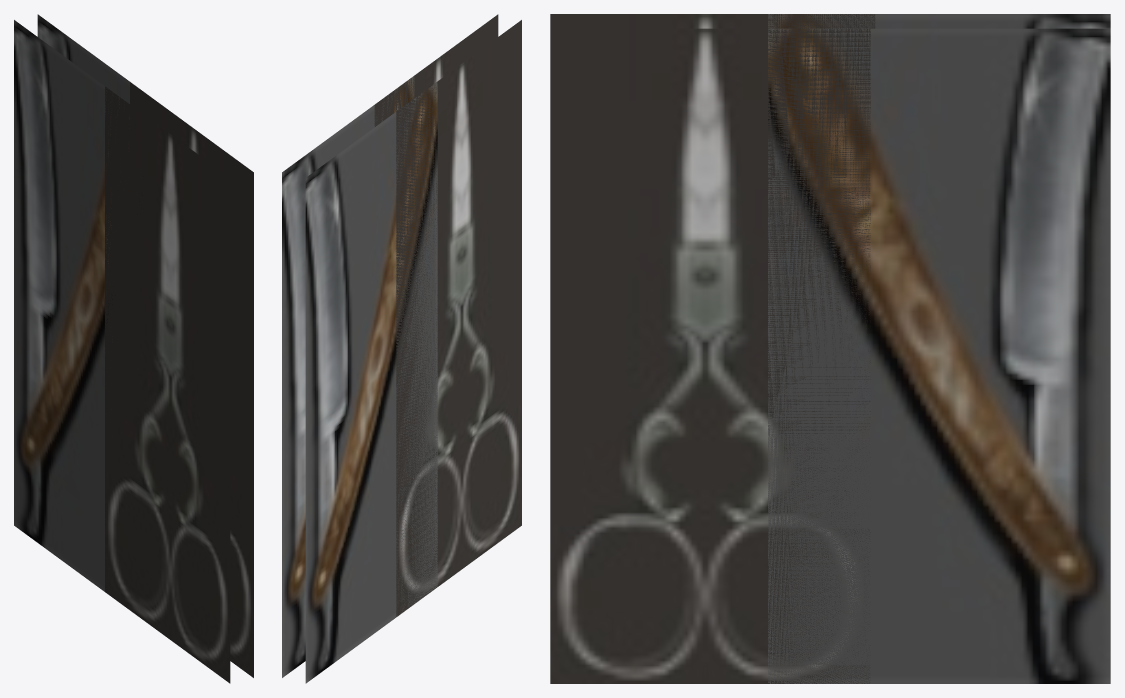
Rendered from sign1_eng_b_icon_barber.fbx.
3 views of the same model, side by side, from view 1: azimuth 30°, elevation 25°; view 2: azimuth 150°, elevation 25°; view 3: azimuth 270°, elevation 25° (orthographic). The views are drawn at different scales.
Visible parts, largest first — view 1: icon_scissors, icon_razor; view 2: icon_razor, icon_scissors; view 3: icon_razor, icon_scissors.
Boxes of the visible parts, bbox=[...] form: icon_scissors: bbox=[105, 82, 253, 683]; icon_razor: bbox=[14, 14, 142, 591]; icon_razor: bbox=[282, 76, 437, 683]; icon_scissors: bbox=[374, 14, 521, 616]; icon_razor: bbox=[768, 14, 1110, 683]; icon_scissors: bbox=[550, 14, 875, 683].
Bounding box in the file's own units: 16.67 × 345 × 267.
1 material, 1 textured.
